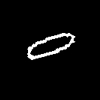chain: (28, 33, 74, 59)
